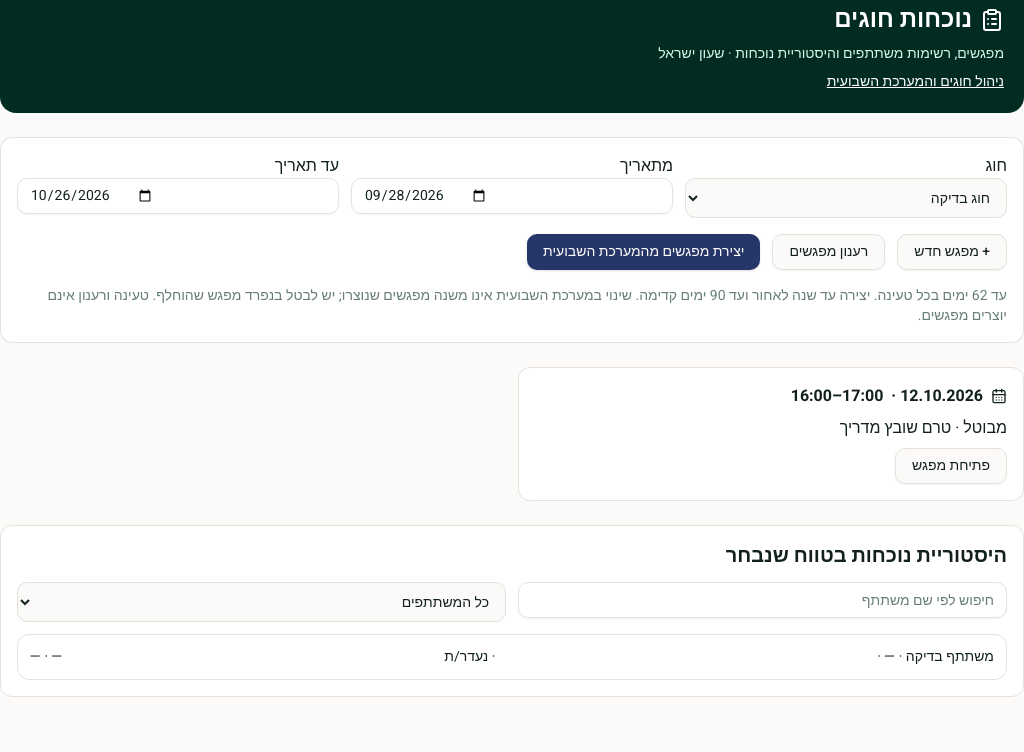
Test: cancelled session keeps history but disables roster and attendance writes
Click the button "פתיחת מפגש".
click(951, 466)  # box top-left (895, 448), bottom-right (1007, 484)
(page scrolled)
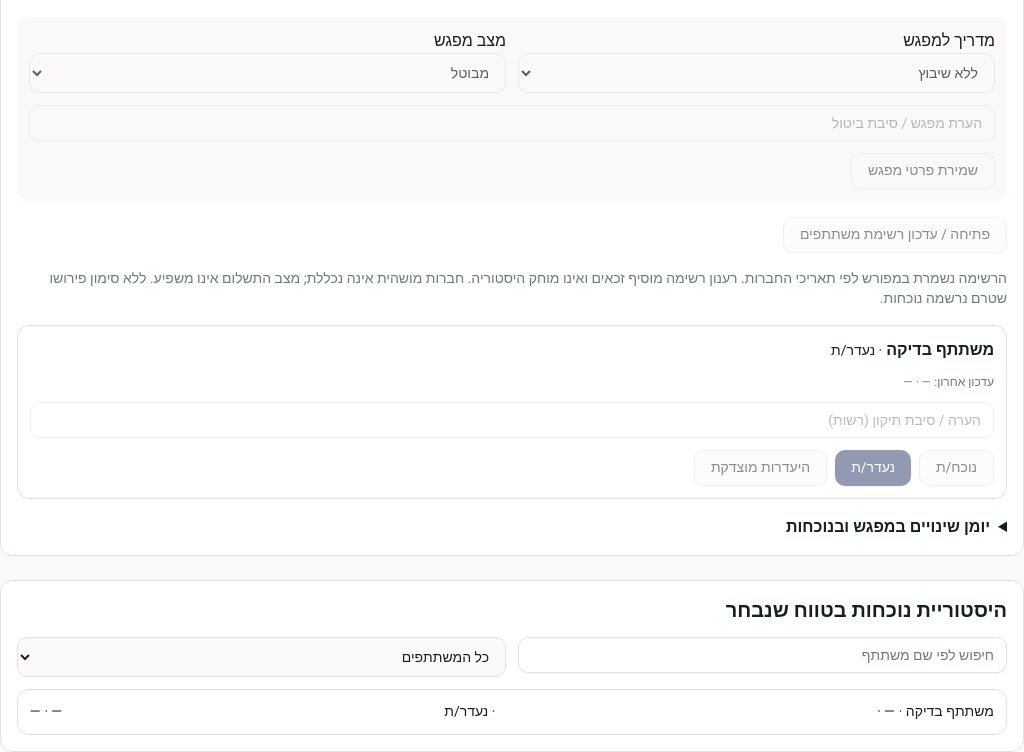
Result: the button "פתיחה / עדכון רשימת משתתפים" is disabled at top-left (783, 217), bottom-right (1007, 253)
Result: the button "נוכח/ת" is disabled at top-left (919, 450), bottom-right (994, 486)
